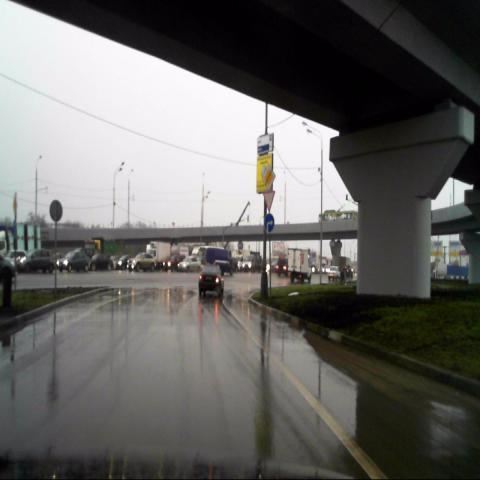2_2: (262, 164, 276, 189)
2_4: (263, 190, 275, 212)
4_1_2: (264, 213, 274, 233)
